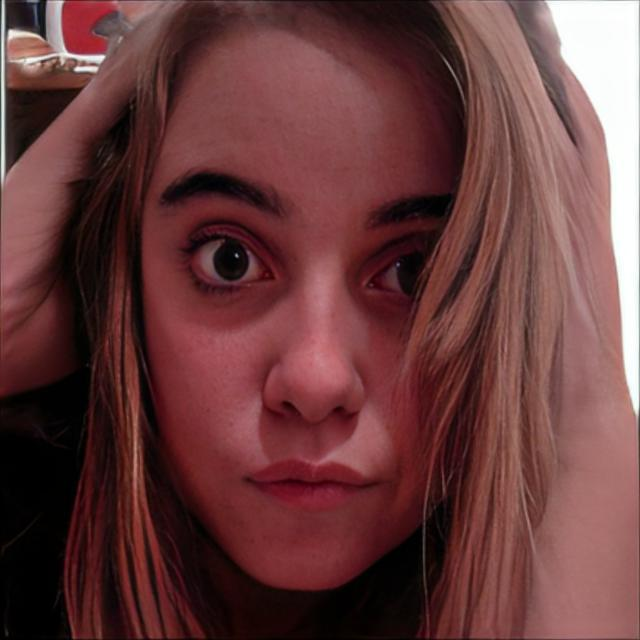surprise: (138, 0, 488, 593)
